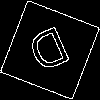D: (25, 25, 77, 82)
